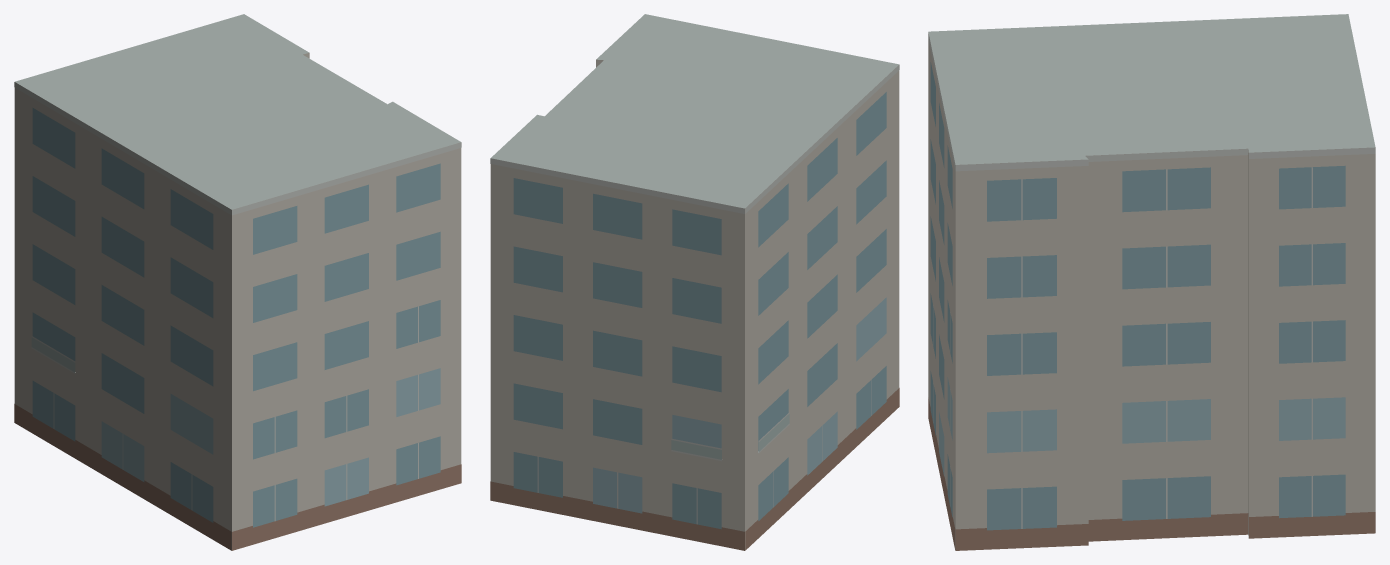
Rendered from survey-upis-32983896.glb.
3 renders of one model, left to right at view 1: azimuth 30°, elevation 25°; view 2: azimuth 150°, elevation 25°; view 3: azimuth 270°, elevation 25°, orthographic. The views are drawn at different scales.
Visible parts, largest first — view 1: survey-upis-32983896.tmp; view 2: survey-upis-32983896.tmp; view 3: survey-upis-32983896.tmp.
Boxes of the visible parts, x1,y1,x2,y2 form: survey-upis-32983896.tmp: (14, 14, 461, 550); survey-upis-32983896.tmp: (490, 14, 899, 550); survey-upis-32983896.tmp: (928, 14, 1375, 550).
Size of the model in its own units: 12.38 by 14.75 by 15.5.
